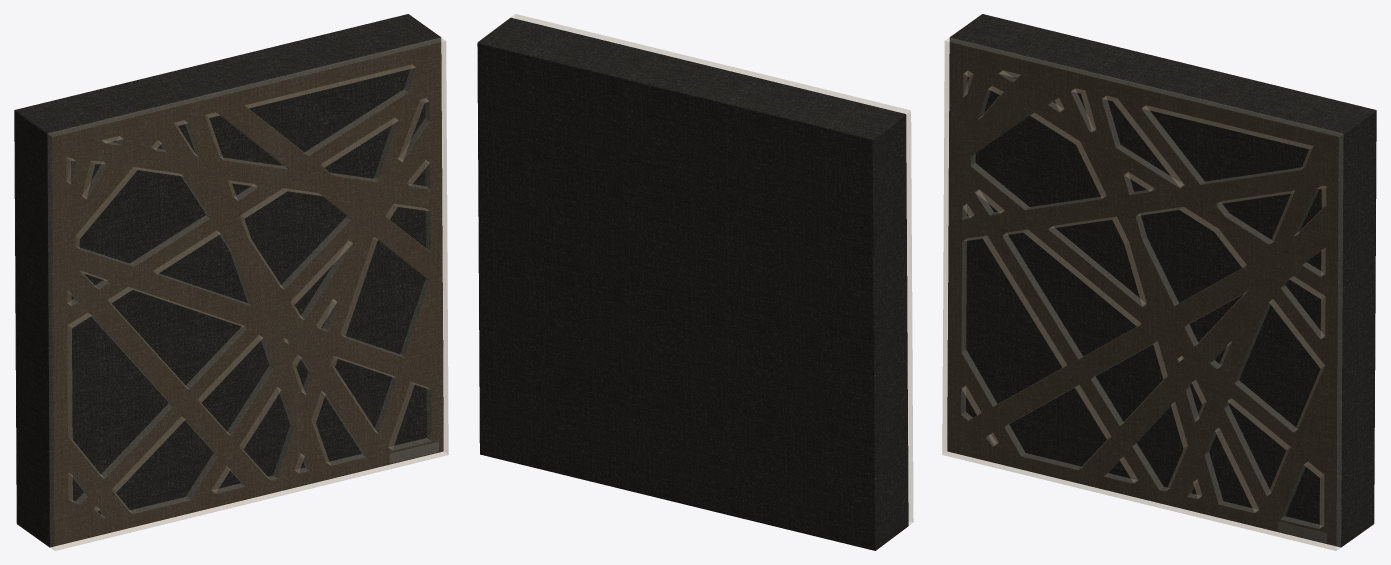
Rendered from WallArt.glb.
The picture shows the model from 3 angles, left to right: view 1: azimuth 30°, elevation 25°; view 2: azimuth 150°, elevation 25°; view 3: azimuth 330°, elevation 25°; orthographic projection.
Parts seen in each view (by area): view 1: Absorber_Palomar, WoodenPlate_Palomar; view 2: Absorber_Palomar, WoodenPlate_Palomar; view 3: Absorber_Palomar, WoodenPlate_Palomar.
Part boxes in pixels (<box>): Absorber_Palomar: <box>14,14,443,547</box>; WoodenPlate_Palomar: <box>47,38,448,550</box>; Absorber_Palomar: <box>477,17,908,550</box>; WoodenPlate_Palomar: <box>511,14,913,524</box>; Absorber_Palomar: <box>947,14,1376,547</box>; WoodenPlate_Palomar: <box>942,38,1343,550</box>.
Bounding box in the file's own units: 2.18 × 2.18 × 0.3919.
5 materials, 2 textured.
